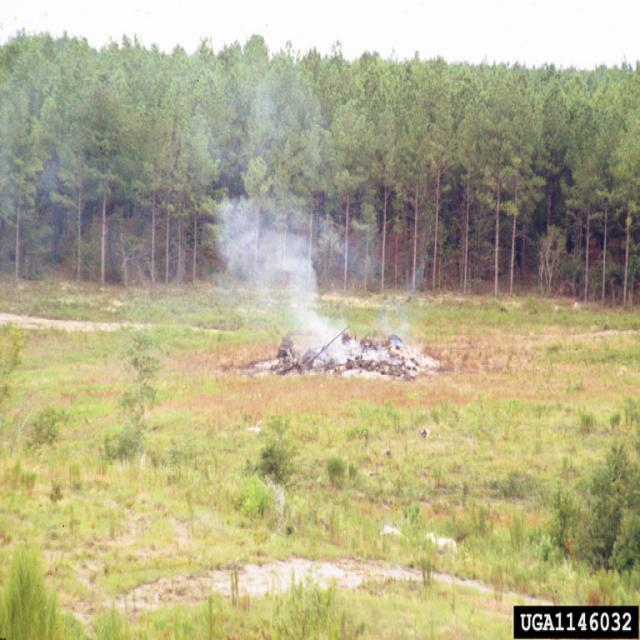Smoke: (212, 195, 390, 379)
